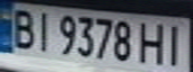3: (75, 14, 96, 58)
7: (90, 15, 115, 61)
8: (112, 17, 139, 63)
9: (54, 11, 78, 56)
B: (6, 6, 39, 51)
H: (136, 18, 169, 65)
I: (160, 19, 190, 66), (30, 8, 57, 52)
